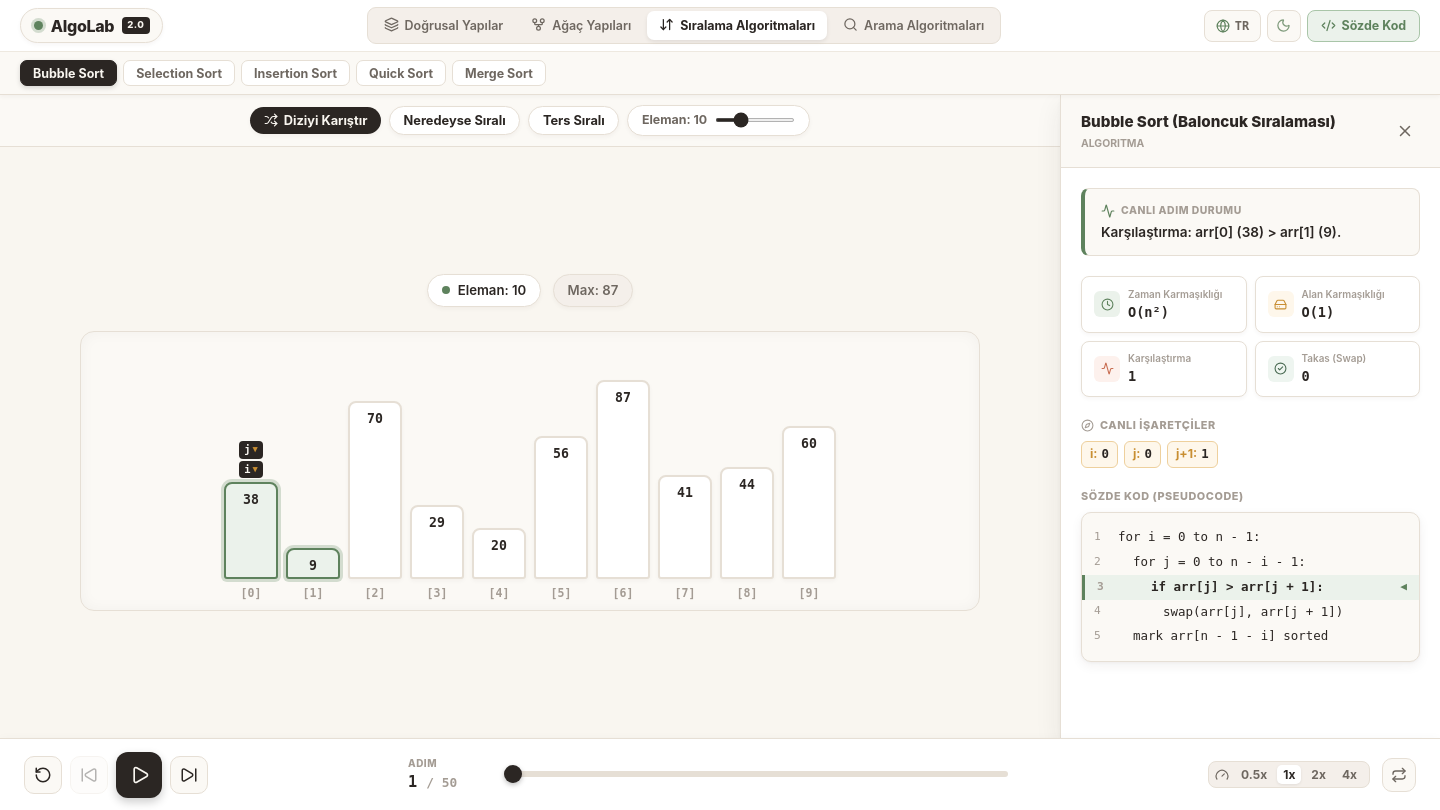
Algorithm & Structure Transition Integration Tests › Tree -> BST geçişinde BST ağaç kanvası ve traversalleri render edilmeli
Click the button "Ağaç Yapıları" at (581, 26), box [519,11,643,40]
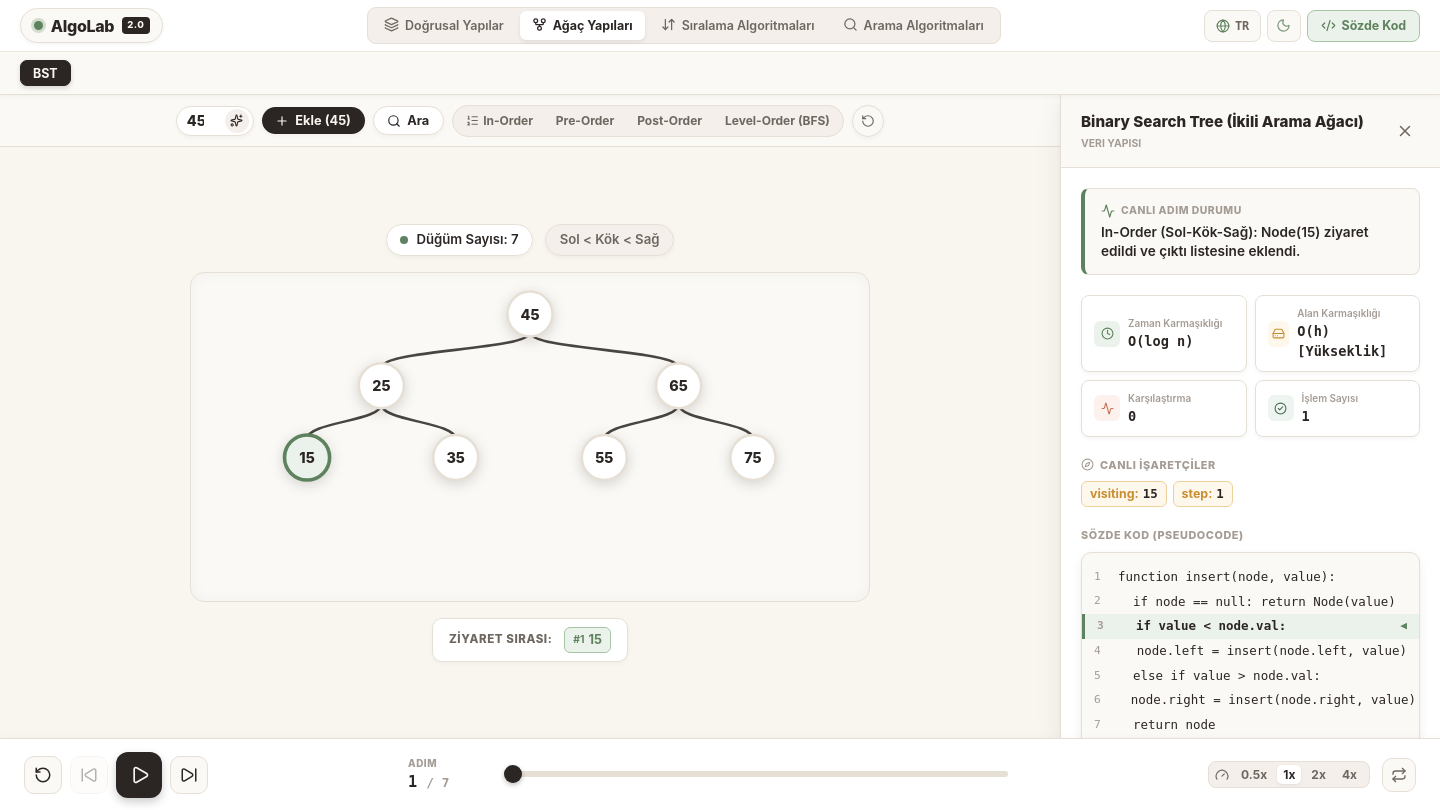
Expected: the text "Sol < Kök < Sağ" is shown, [560,230,660,250]
Expected: the text "In-Order" is shown, [483,113,533,128]
Expected: the text "Pre-Order" is shown, [556,113,614,128]
